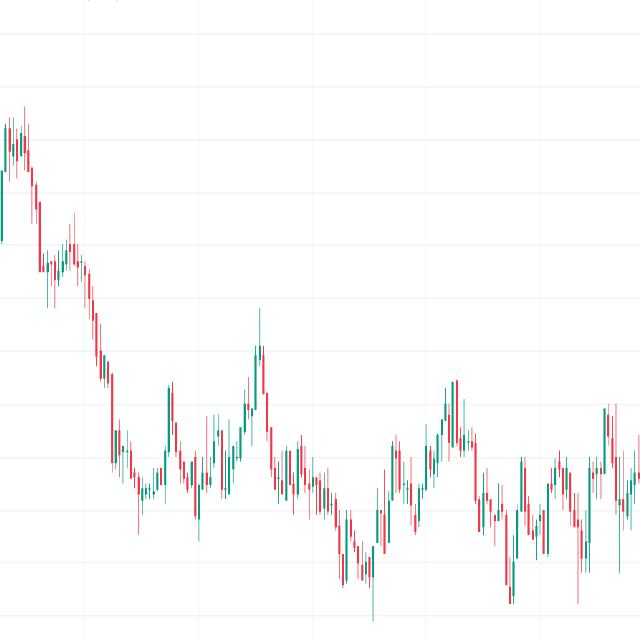Triple-Bottom: (96, 367, 262, 535)
